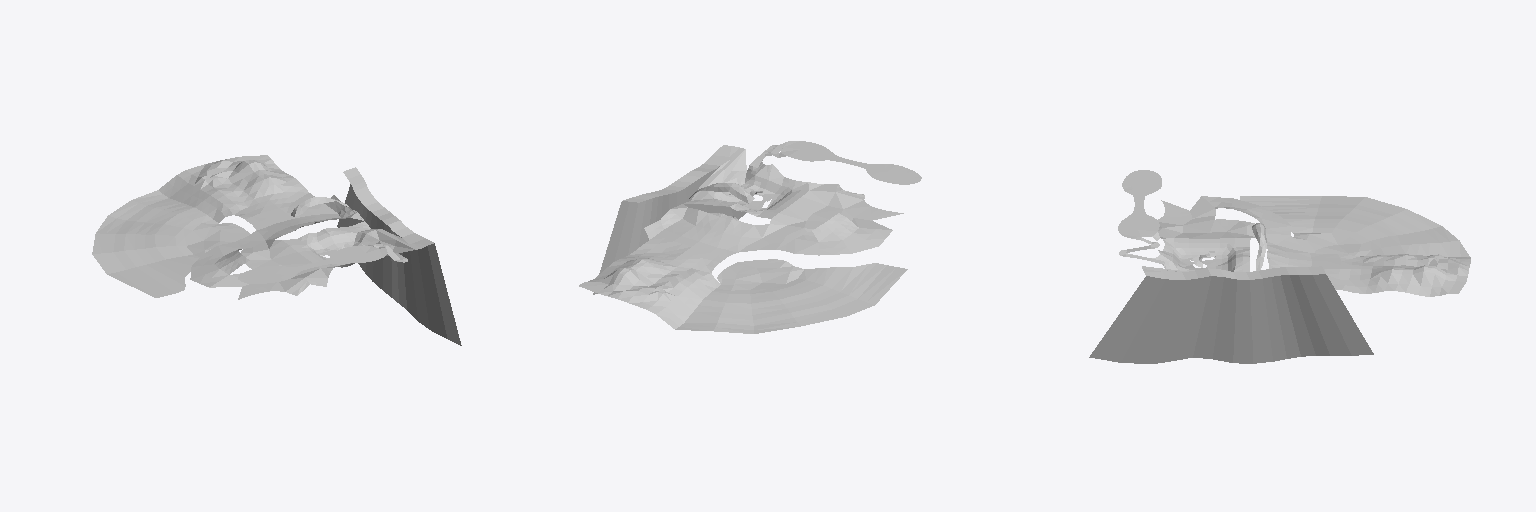
The model's file is theworld0.obj.
3 renders of one model, left to right at view 1: azimuth 30°, elevation 25°; view 2: azimuth 150°, elevation 25°; view 3: azimuth 270°, elevation 25°, orthographic.
Visible parts, largest first — view 1: Plane.001_Plane.004; view 2: Plane.001_Plane.004; view 3: Plane.001_Plane.004.
Boxes of the visible parts, x1,y1,x2,y2 form: Plane.001_Plane.004: [92, 155, 461, 345]; Plane.001_Plane.004: [579, 141, 921, 333]; Plane.001_Plane.004: [1089, 170, 1470, 363].
Size of the model in its own units: 475 by 193 by 613.